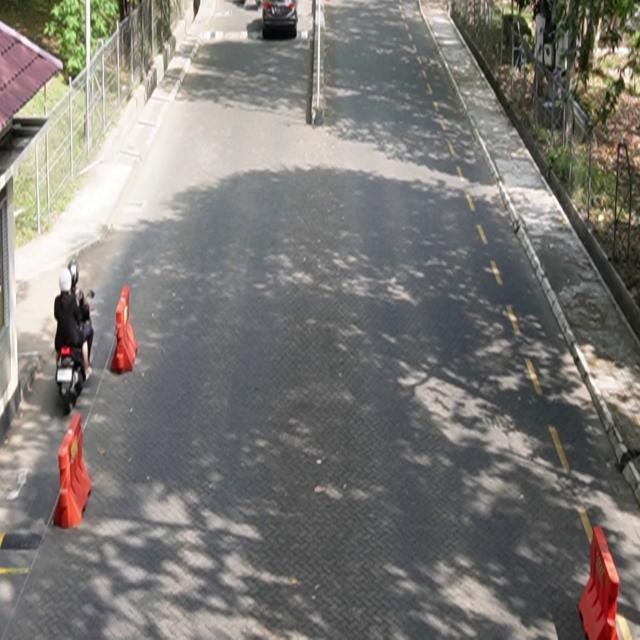car: (262, 1, 299, 40)
